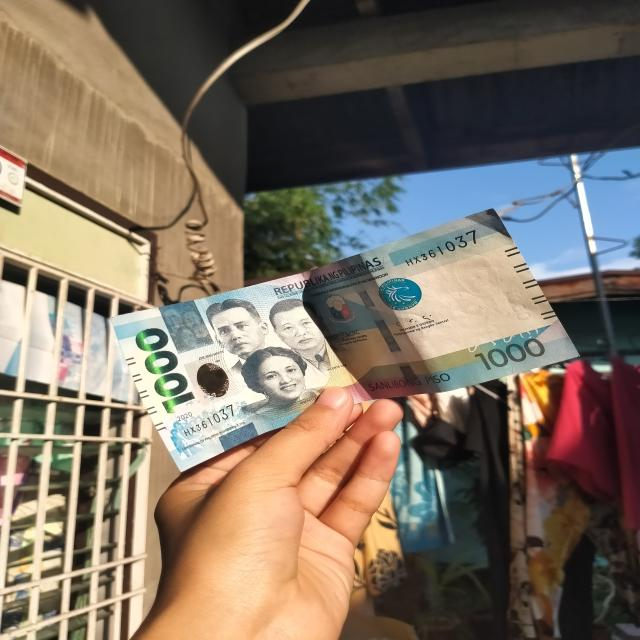concealed_value: (158, 301, 216, 353)
optically_variable_device: (183, 353, 243, 407)
security_thread: (335, 258, 428, 396)
see_through_mark: (459, 320, 548, 355)
serial_number: (395, 225, 487, 267), (173, 403, 244, 440)
value: (124, 322, 203, 419)
watermark: (401, 248, 525, 343), (504, 288, 532, 320)
